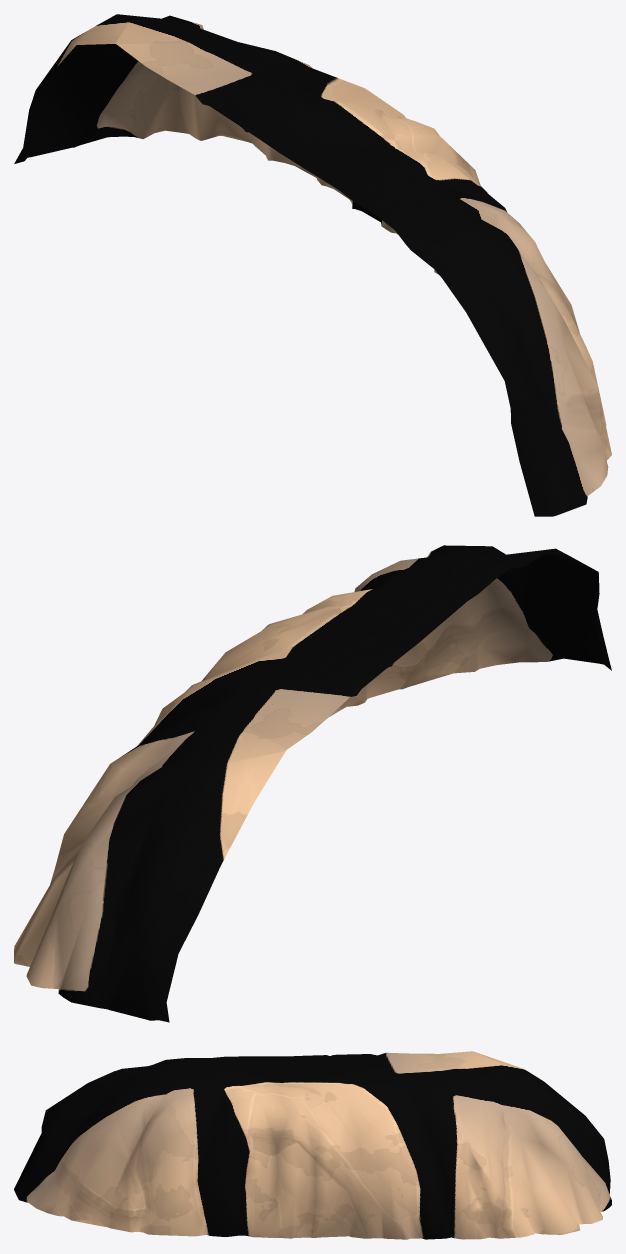
The model's file is Slope_4.fbx.
The picture shows the model from 3 angles, top to bottom: view 1: azimuth 30°, elevation 25°; view 2: azimuth 150°, elevation 25°; view 3: azimuth 270°, elevation 25°; orthographic projection. The views are drawn at different scales.
Parts seen in each view (by area): view 1: Slope_4_LOD0; view 2: Slope_4_LOD0; view 3: Slope_4_LOD0.
Part boxes in pixels (x1,y1,x2,y2): Slope_4_LOD0: (14, 14, 611, 516); Slope_4_LOD0: (14, 545, 611, 1022); Slope_4_LOD0: (14, 1051, 611, 1239).
Size of what is drawn, in the model's own units: 108 by 89.9 by 397.
